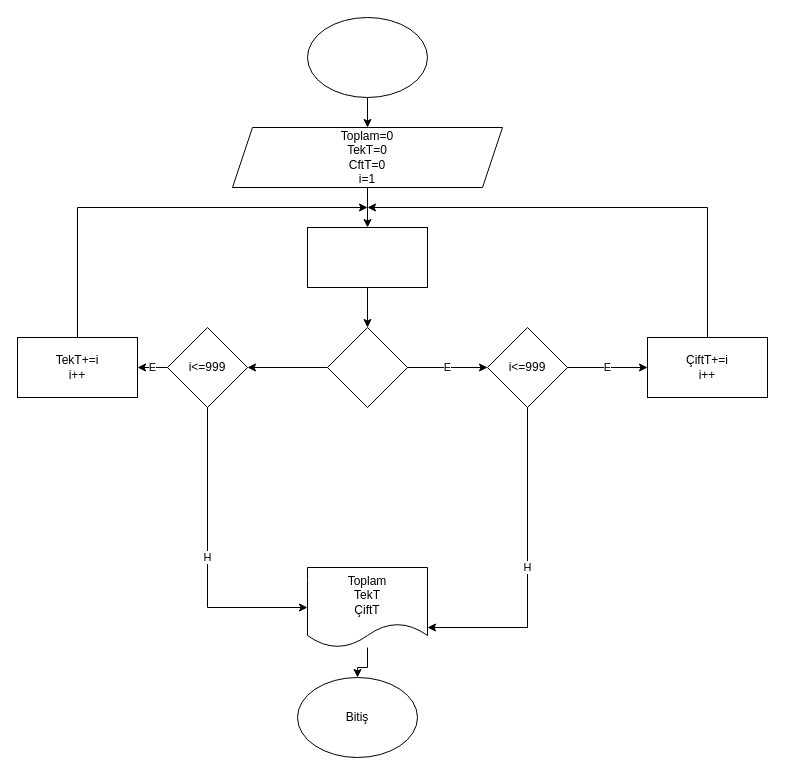
The diagram is 785 pixels wide and 775 high, and some of its shapes have lost their labels. Here are the shapes that lost their labels. From the top down, the centre of each, then its label:
[367,57]: Başla
[367,257]: Toplam+=i
[367,367]: İ mod(2)=0
